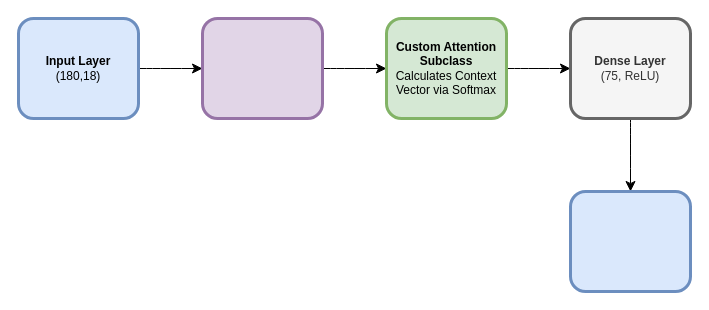
Image size: 709x310. Some labels were removed from this diagram. Here are the shapes that lost their labels. From the top down, the box of each, then its label:
(200, 16, 324, 120): LSTM Layer (200, Return Seq=True)
(568, 190, 692, 292): Output Layer 40 days Forecast
